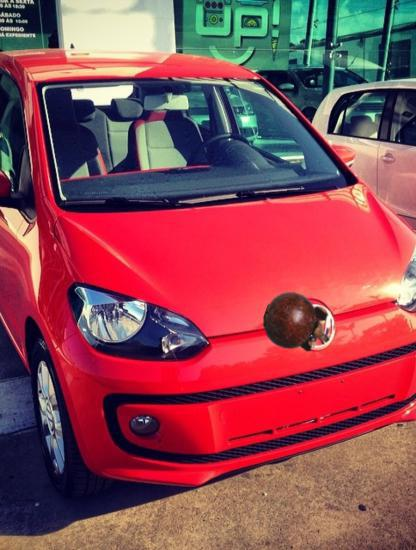Mangostan: (263, 288, 334, 359)
